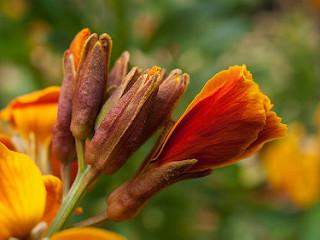tulip: (104, 64, 294, 220), (85, 52, 187, 176), (56, 27, 114, 142)
